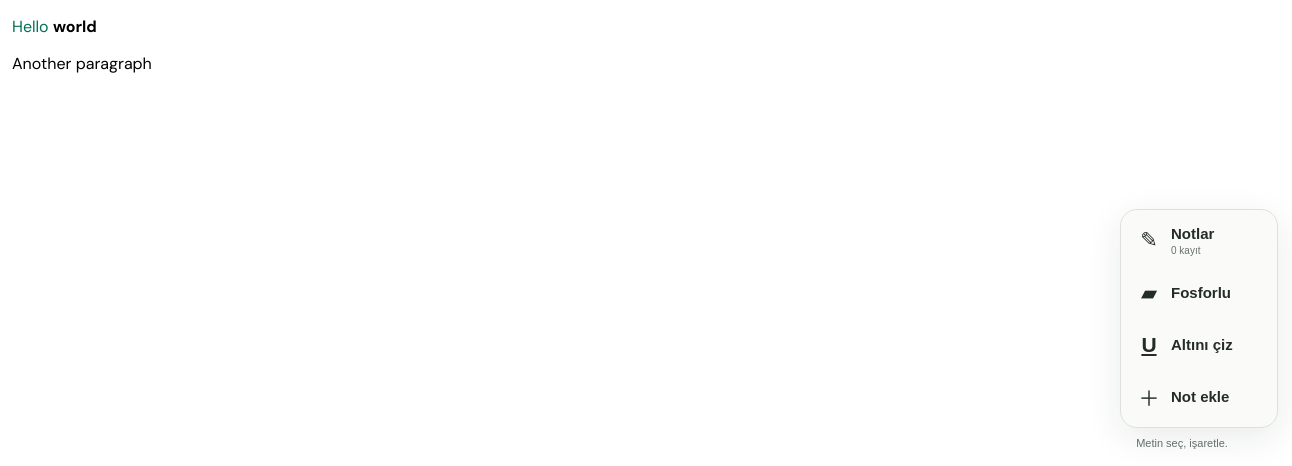
Test case: browser-local reading tools › clears a stale selection when the reader releases or collapses it, while keeping it for the toolbar action
Click the button with aria-label "Seçili metni fosforlu kalemle işaretle".
click(1199, 293)  # box [1127,269,1271,317]
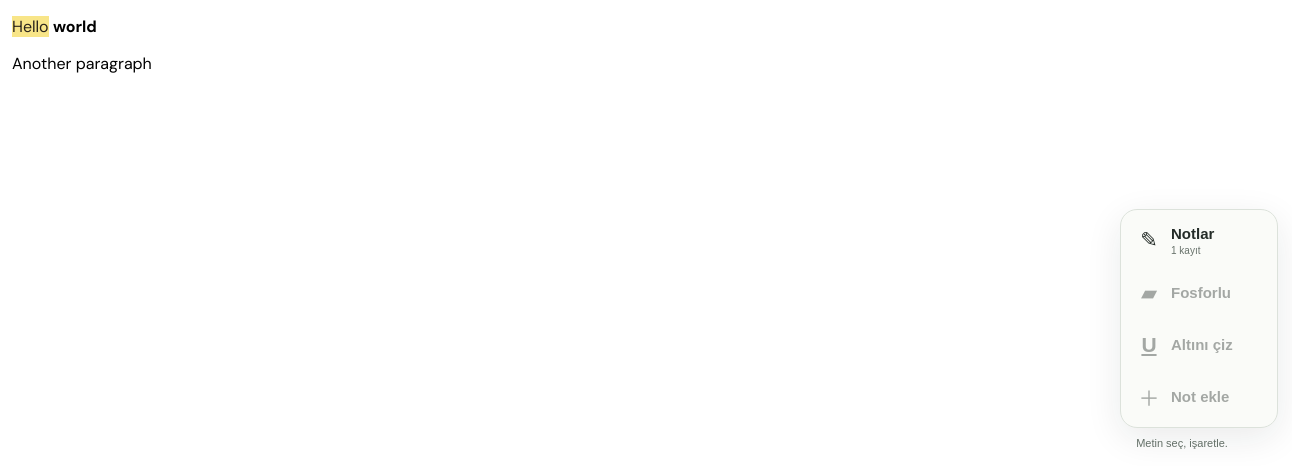
Expected: the button with aria-label "Seçili metnin altını çiz" is disabled, [1127,321,1271,369]
